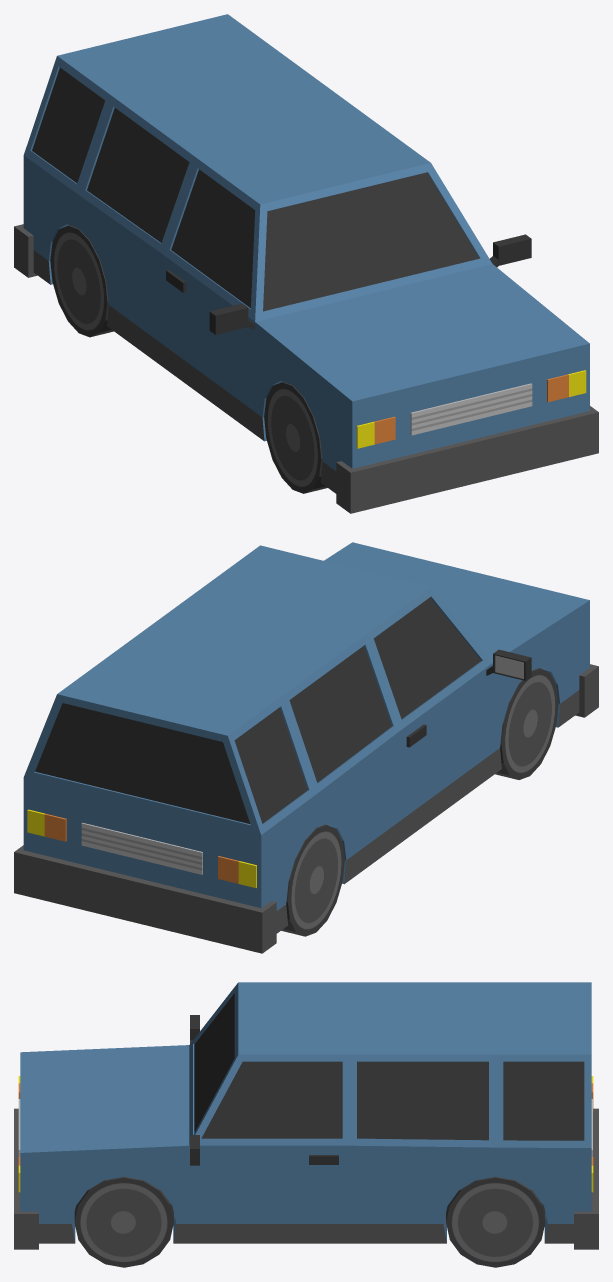
Rendered from jeep01_color02.fbx.
3 views of the same model, one above another, from view 1: azimuth 30°, elevation 25°; view 2: azimuth 150°, elevation 25°; view 3: azimuth 270°, elevation 25° (orthographic). The views are drawn at different scales.
Parts seen in each view (by area): view 1: Cube.479, Cube.483, Cube.480; view 2: Cube.479, Cube.483, Cube.480; view 3: Cube.479, Cube.482, Cube.481.
Boxes of the visible parts, <box> form: Cube.479: <box>14,14,598,513</box>; Cube.483: <box>50,225,113,337</box>; Cube.480: <box>264,381,327,493</box>; Cube.479: <box>14,542,598,953</box>; Cube.483: <box>281,824,344,936</box>; Cube.480: <box>495,668,558,779</box>; Cube.479: <box>14,982,598,1249</box>; Cube.482: <box>74,1176,173,1267</box>; Cube.481: <box>446,1176,545,1267</box>.
Size of the model in its own units: 272 by 188 by 502.
